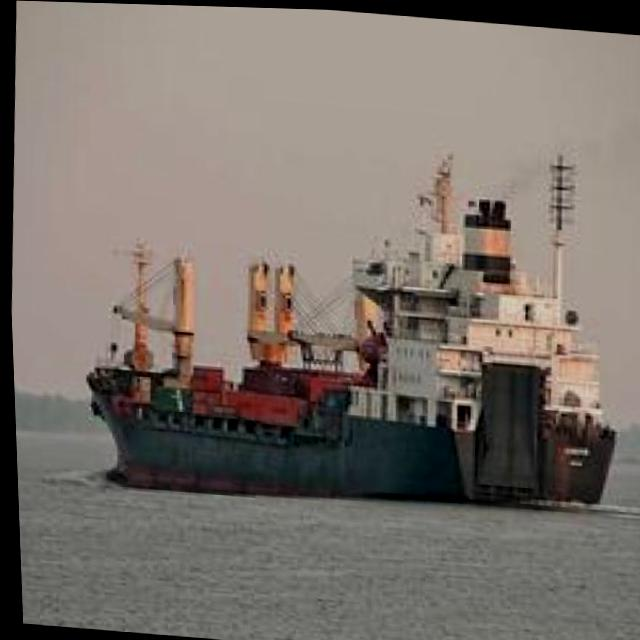ship2: (82, 151, 613, 505)
